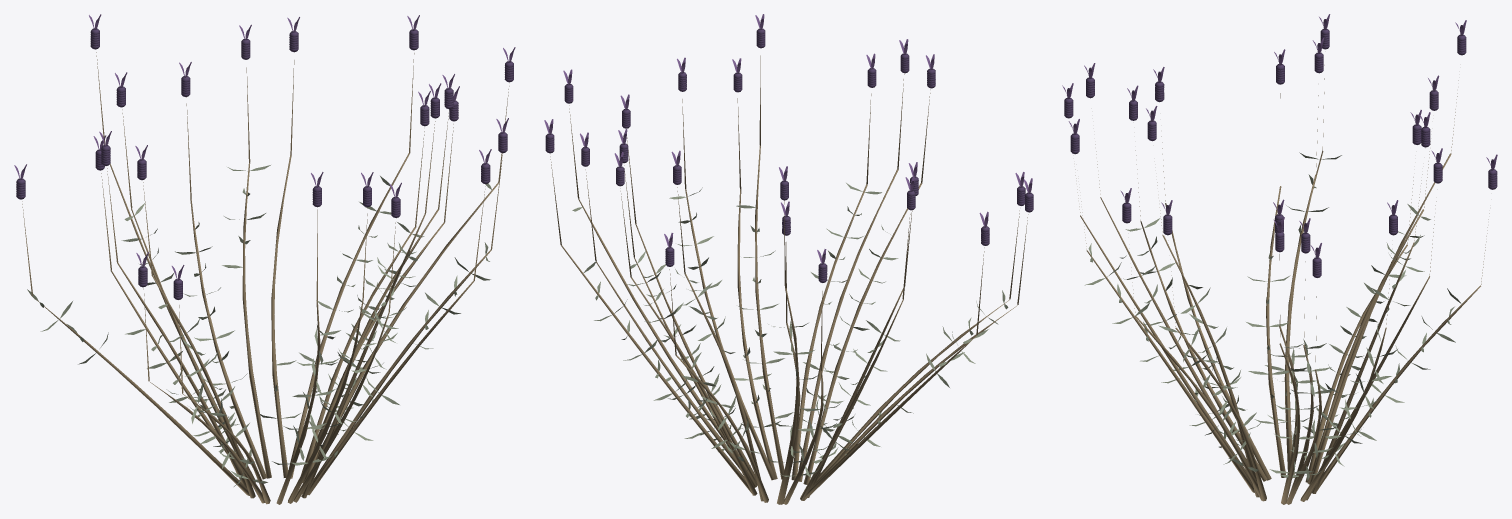
The model's file is Lavande_1_Niveau1.fbx.
The picture shows the model from 3 angles, left to right: view 1: azimuth 30°, elevation 25°; view 2: azimuth 150°, elevation 25°; view 3: azimuth 270°, elevation 25°; orthographic projection. The views are drawn at different scales.
Parts seen in each view (by area): view 1: Lavande_1_Niveau1_Jeu; view 2: Lavande_1_Niveau1_Jeu; view 3: Lavande_1_Niveau1_Jeu.
Boxes of the visible parts, x1,y1,x2,y2 form: Lavande_1_Niveau1_Jeu: (14,14,515,504); Lavande_1_Niveau1_Jeu: (544,14,1033,504); Lavande_1_Niveau1_Jeu: (1062,14,1497,504).
Size of the model in its own units: 82.06 by 71.59 by 66.21.
